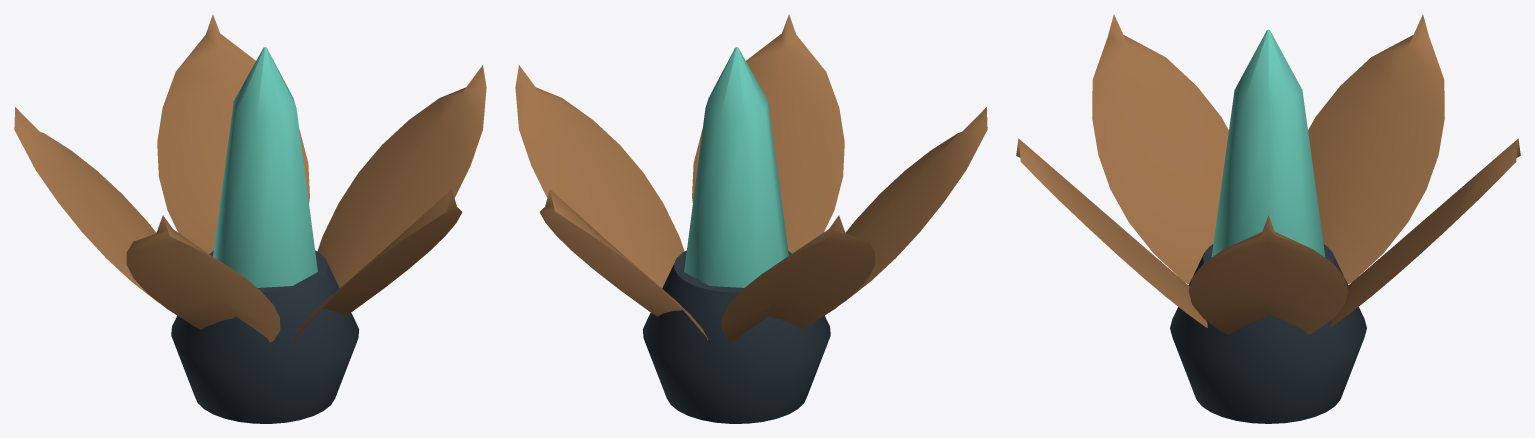
Rendered from solar_collector.glb.
The picture shows the model from 3 angles, left to right: view 1: azimuth 30°, elevation 25°; view 2: azimuth 150°, elevation 25°; view 3: azimuth 270°, elevation 25°; orthographic projection. The views are drawn at different scales.
Visible parts, largest first — view 1: solar_collector; view 2: solar_collector; view 3: solar_collector.
Part boxes in pixels (box(x1,y1,x2,y2)): solar_collector: box(14, 14, 486, 423); solar_collector: box(515, 14, 987, 423); solar_collector: box(1016, 14, 1520, 423).
Size of the model in its own units: 8.79 by 7.3 by 9.22.
